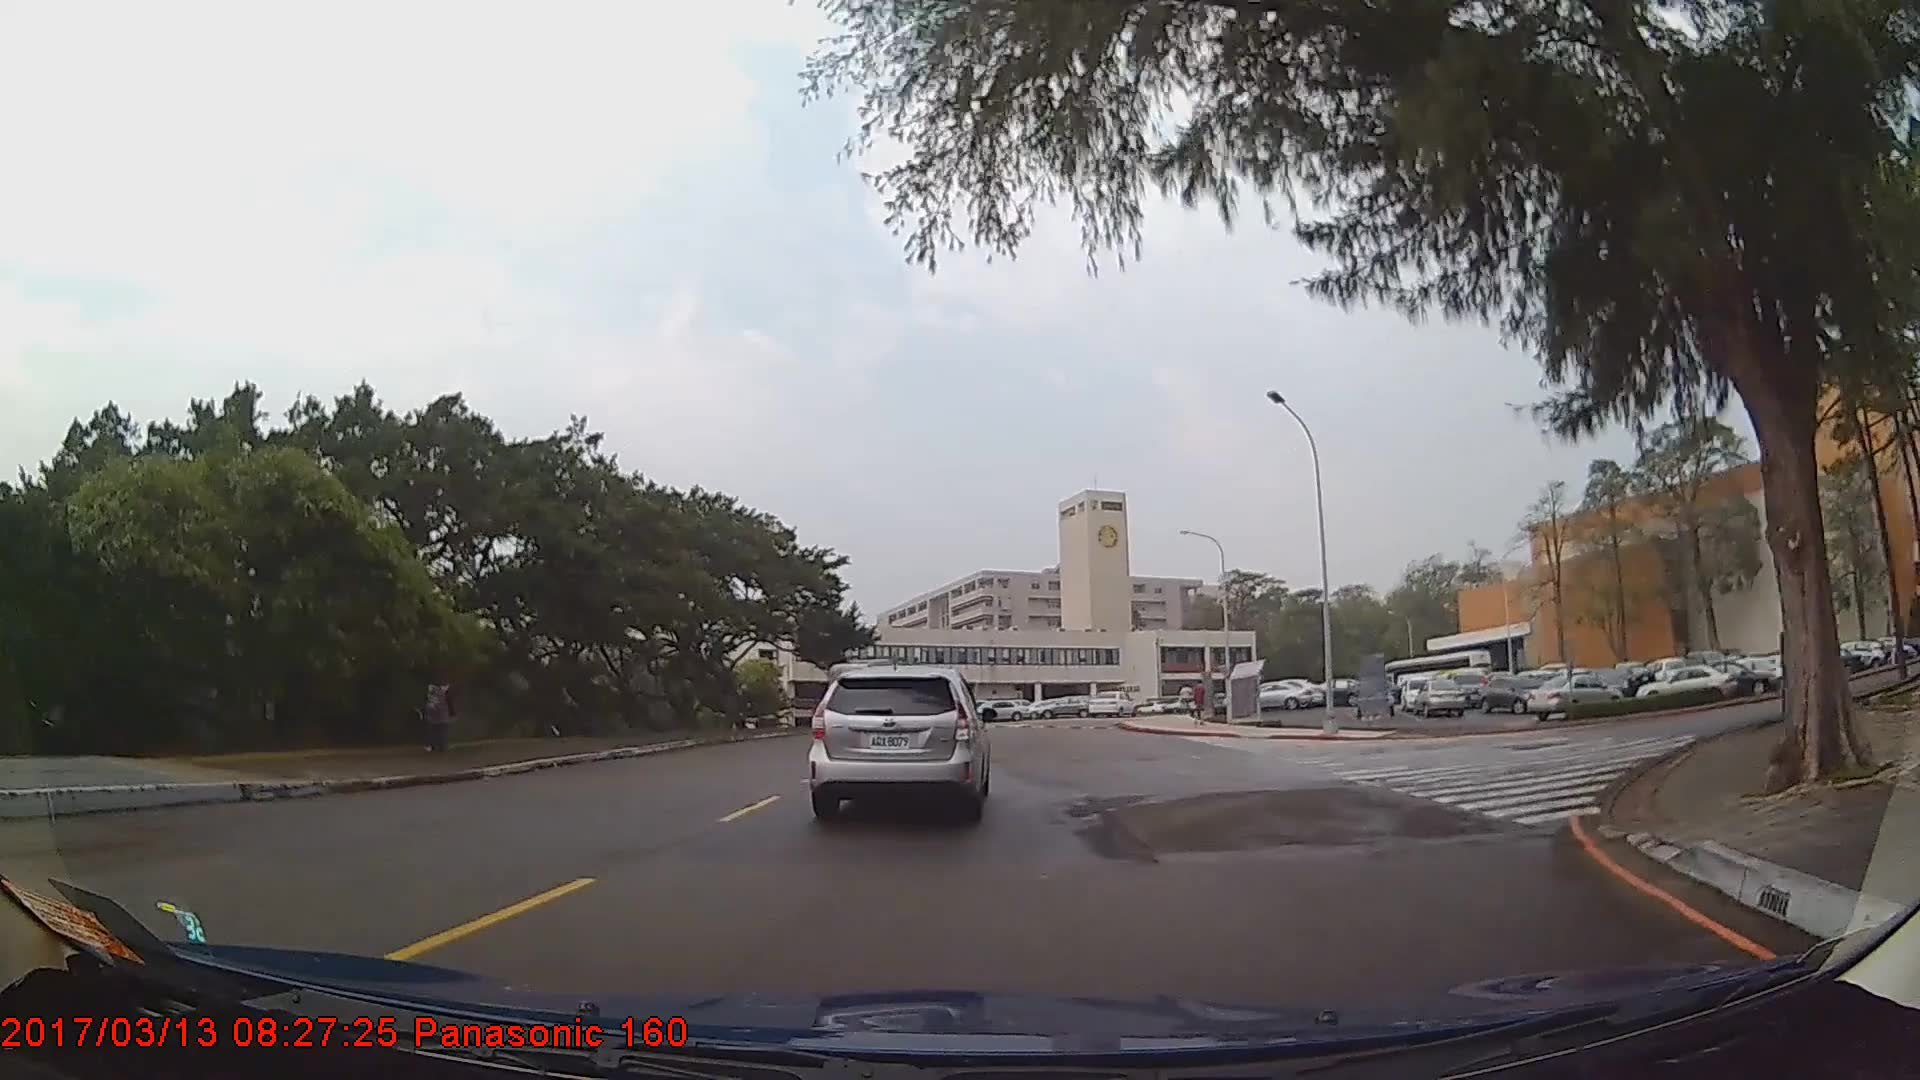pedestrian: (417, 661, 462, 756)
vehicle: (807, 664, 988, 819), (1523, 670, 1620, 720), (1634, 661, 1735, 706), (1691, 659, 1778, 697), (1478, 671, 1554, 711), (1415, 677, 1467, 716), (1244, 680, 1313, 710), (1030, 694, 1096, 717), (1088, 689, 1136, 719), (971, 697, 1028, 719)
